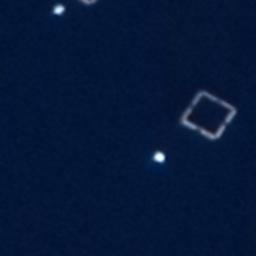square_solid: (174, 84, 243, 147)
